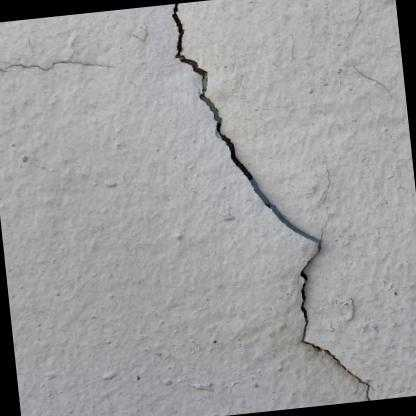crack: (171, 2, 370, 401)
